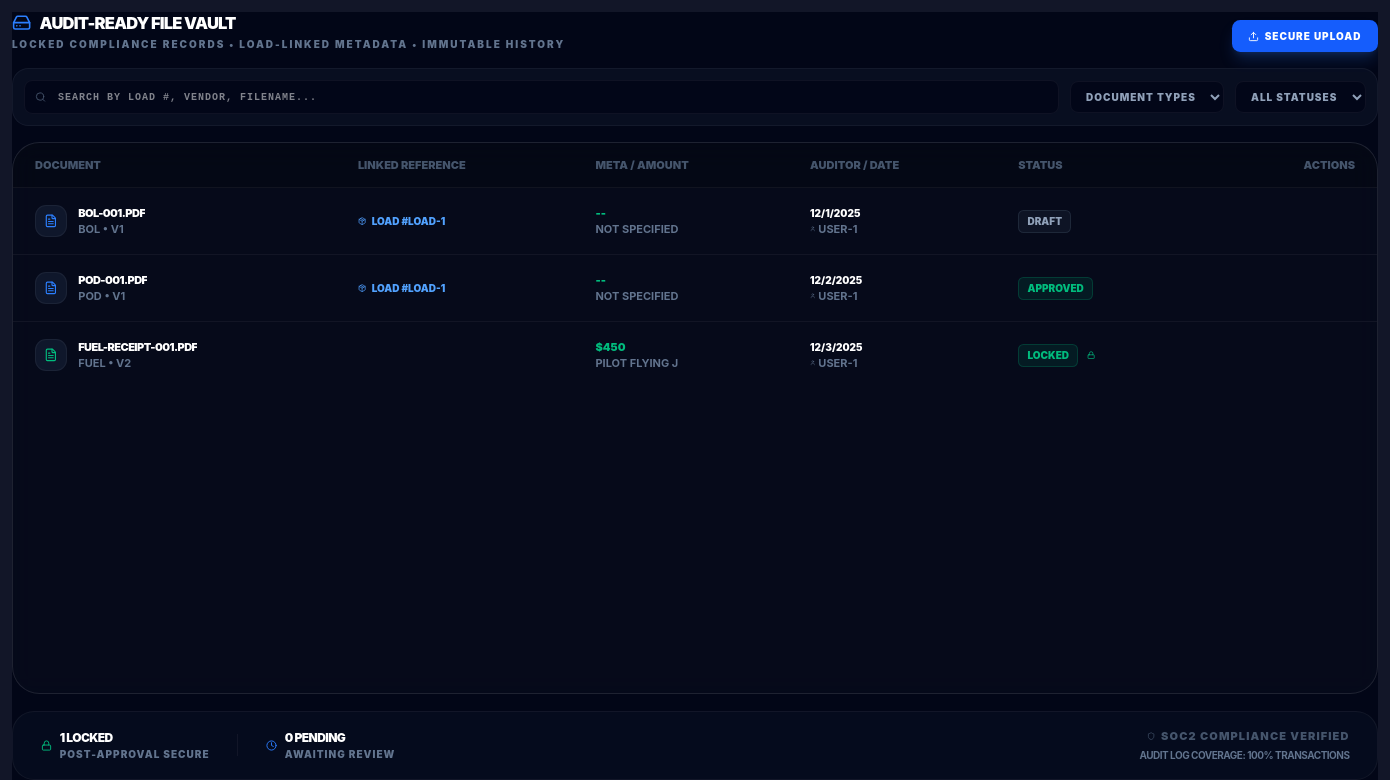
Scenario: FileVault — document upload and review (R-FS-06-03) › filters documents by search query
The width and height of the screenshot is (1390, 780).
Expected: the text "BOL-001.pdf" is shown, [78,205,145,221]
In the field with placeholder "SEARCH BY LOAD #, VENDOR, FILENAME...": [542, 97] box [24,80,1059,114], type "POD"
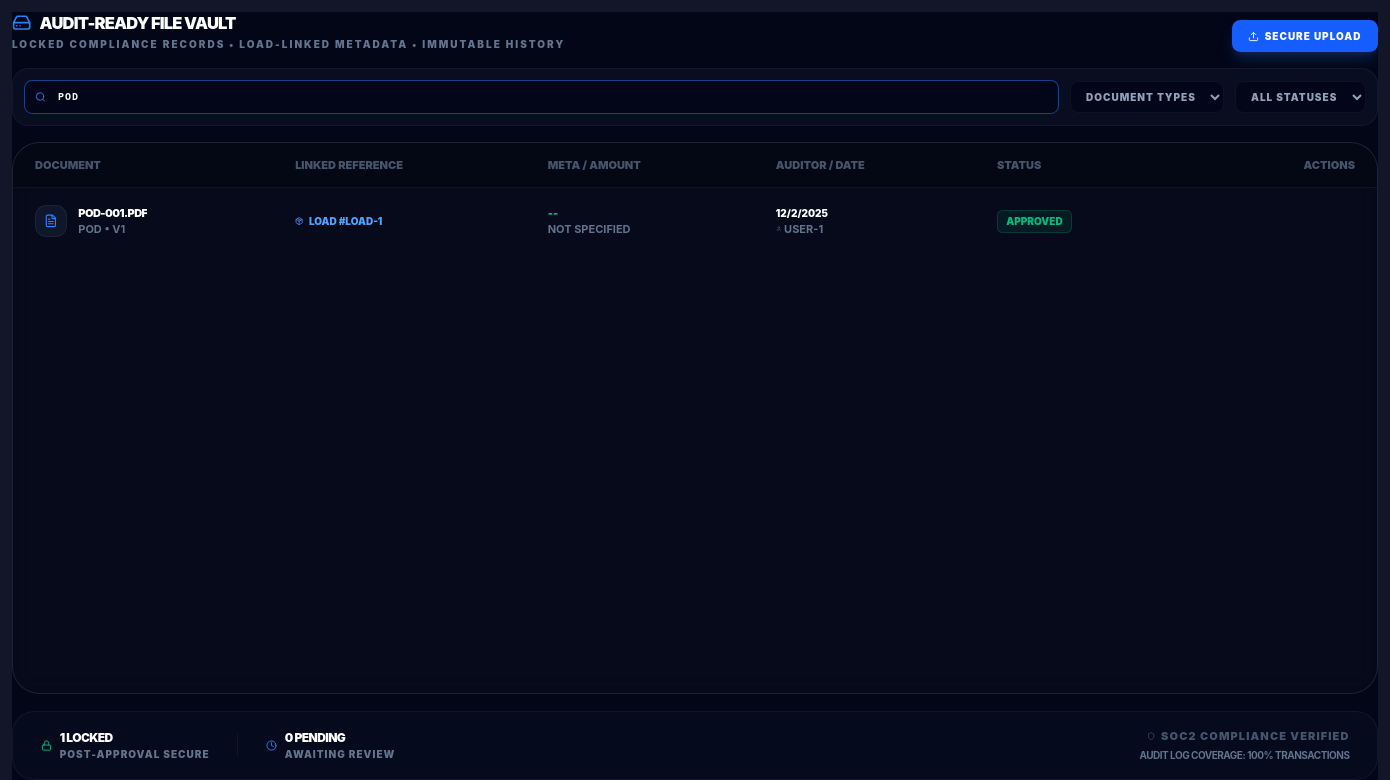
Expected: the text "POD-001.pdf" is shown, [78,205,148,221]
Expected: the text "BOL-001.pdf" is gone
